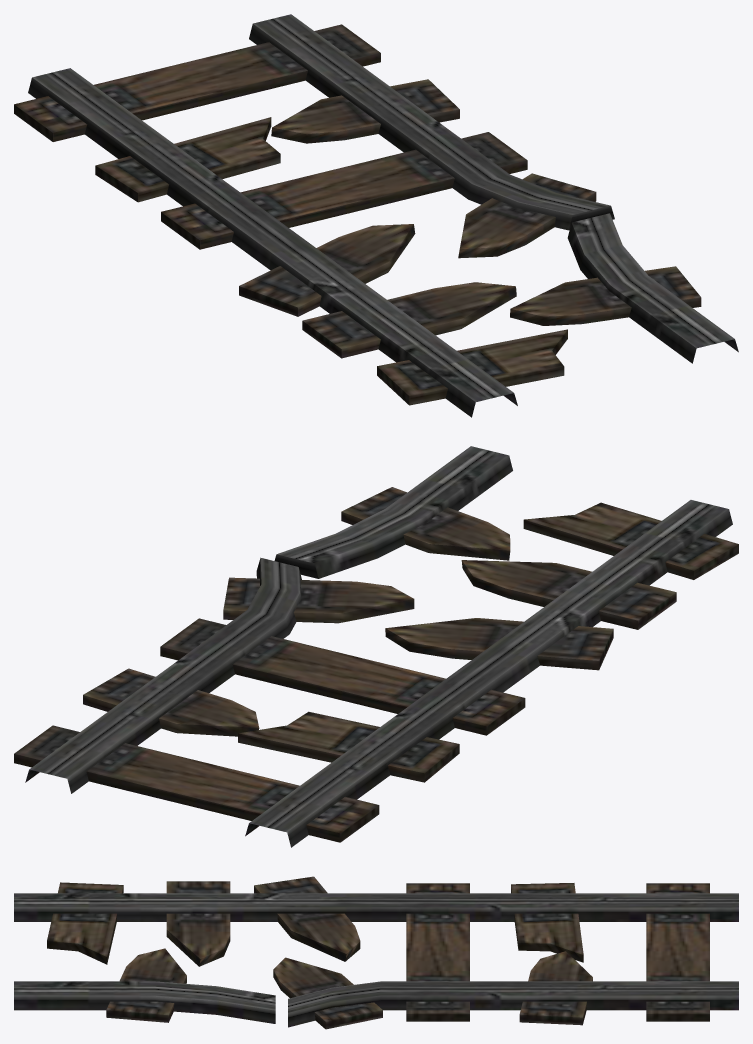
File: Treasure_Rail_05.FBX
The picture shows the model from 3 angles, top to bottom: view 1: azimuth 30°, elevation 25°; view 2: azimuth 150°, elevation 25°; view 3: azimuth 270°, elevation 25°; orthographic projection. The views are drawn at different scales.
Parts seen in each view (by area): view 1: Treasure_Rail_05; view 2: Treasure_Rail_05; view 3: Treasure_Rail_05.
Boxes of the visible parts, left/top/right/bottom form: Treasure_Rail_05: left=14, top=14, right=738, bottom=417; Treasure_Rail_05: left=14, top=446, right=738, bottom=847; Treasure_Rail_05: left=14, top=876, right=738, bottom=1029.
Bounding box in the file's own units: 1.52 × 0.058 × 3.2.
